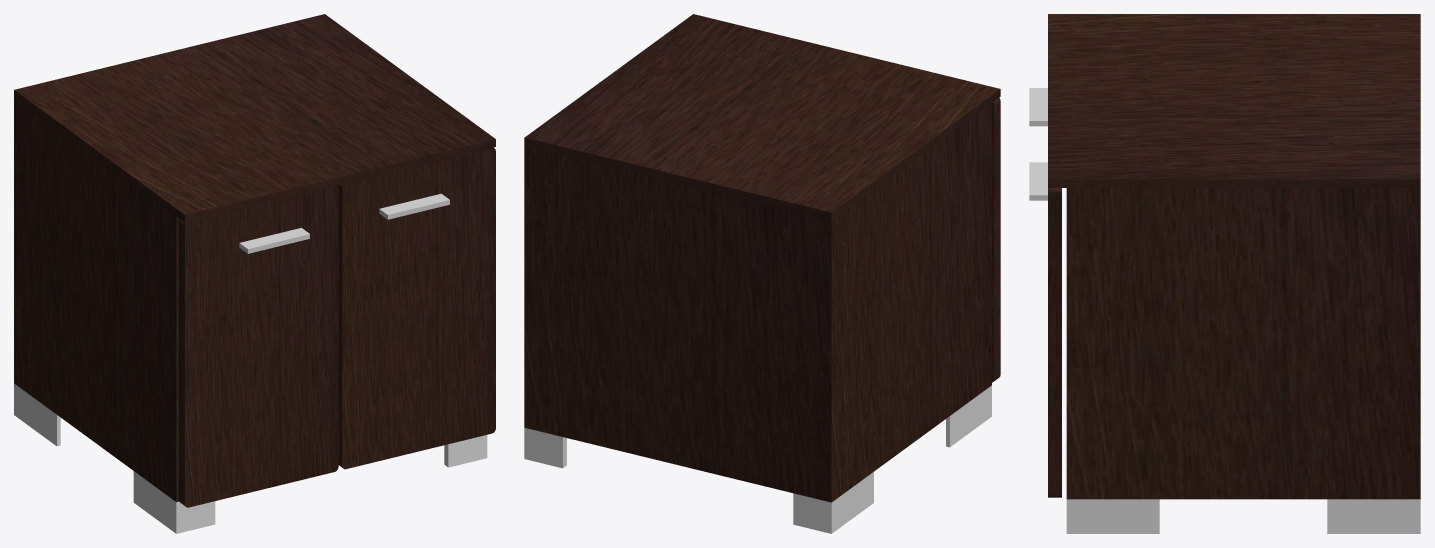
The model's file is sh-lp-mobilettowenge.glb.
3 renders of one model, left to right at view 1: azimuth 30°, elevation 25°; view 2: azimuth 150°, elevation 25°; view 3: azimuth 270°, elevation 25°, orthographic. The views are drawn at different scales.
Parts seen in each view (by area): view 1: Rectangle14_4, Line06_2, Box21_1; view 2: Rectangle14_4, Line06_2; view 3: Rectangle14_4, Line06_2, Box21_1.
Part boxes in pixels (<box>): Rectangle14_4: <box>14,14,495,507</box>; Line06_2: <box>14,383,487,533</box>; Box21_1: <box>239,193,449,253</box>; Rectangle14_4: <box>524,14,1000,502</box>; Line06_2: <box>524,385,991,533</box>; Rectangle14_4: <box>1048,14,1420,499</box>; Line06_2: <box>1066,499,1420,533</box>; Box21_1: <box>1029,88,1047,200</box>.
Bounding box in the file's own units: 1 × 1 × 1.
Materials: 3 (1 with a texture image).
